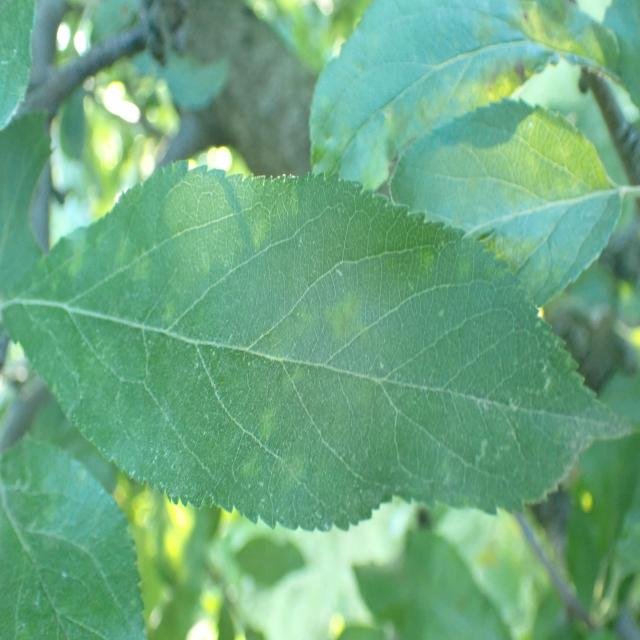scab: (37, 182, 573, 511)
